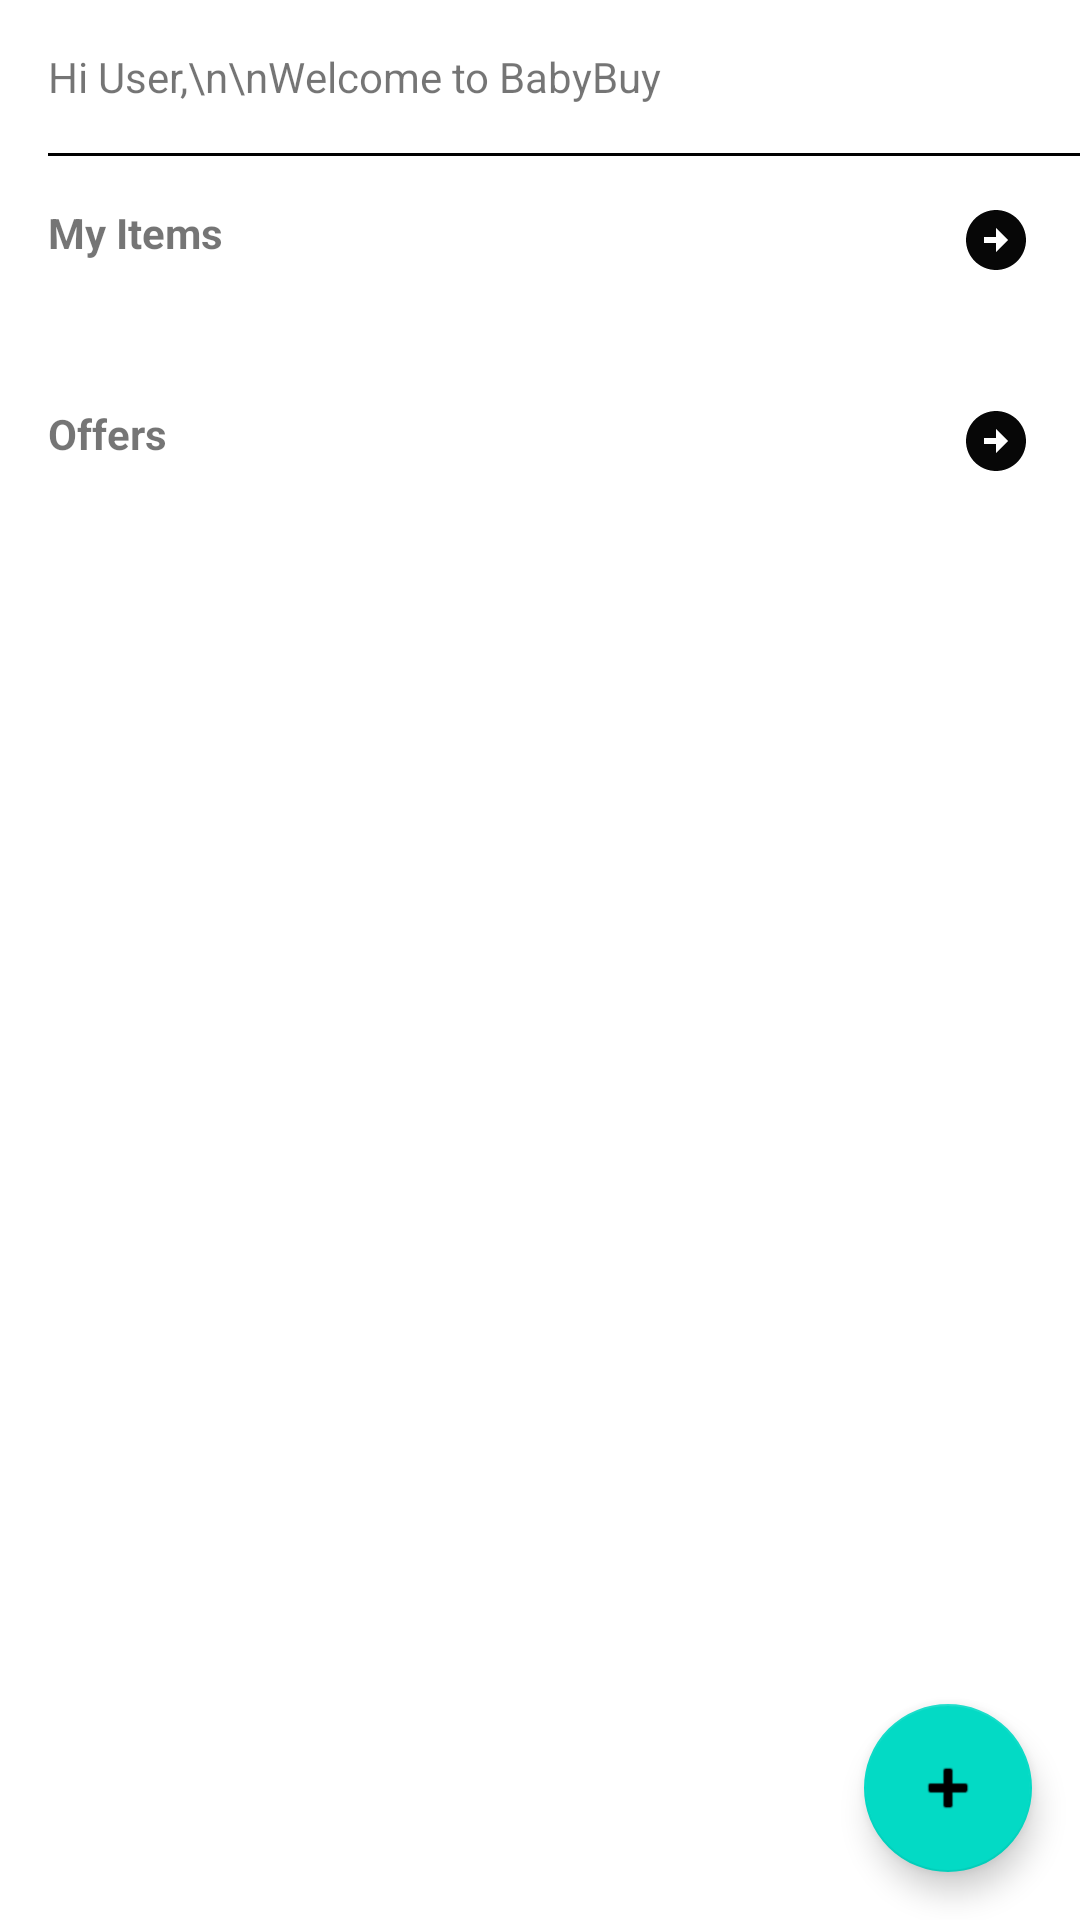

Named icons in this screenshot (1080w x 1920h) and their bounding boxes, (x1=x1, y1=y1, x2=x2, y2=y2):
add: (x1=864, y1=1704, x2=1032, y2=1872)
arrow circle right: (x1=966, y1=210, x2=1026, y2=270), (x1=966, y1=411, x2=1026, y2=471)
